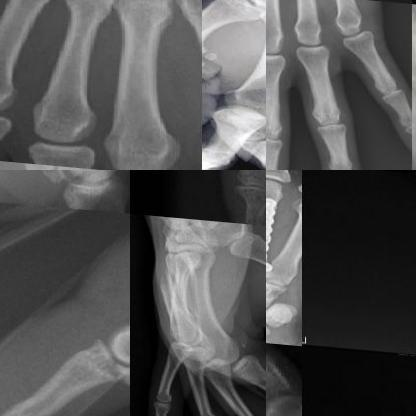fracture: (66, 326, 129, 393), (266, 189, 293, 274), (266, 365, 302, 415), (153, 258, 187, 300)
